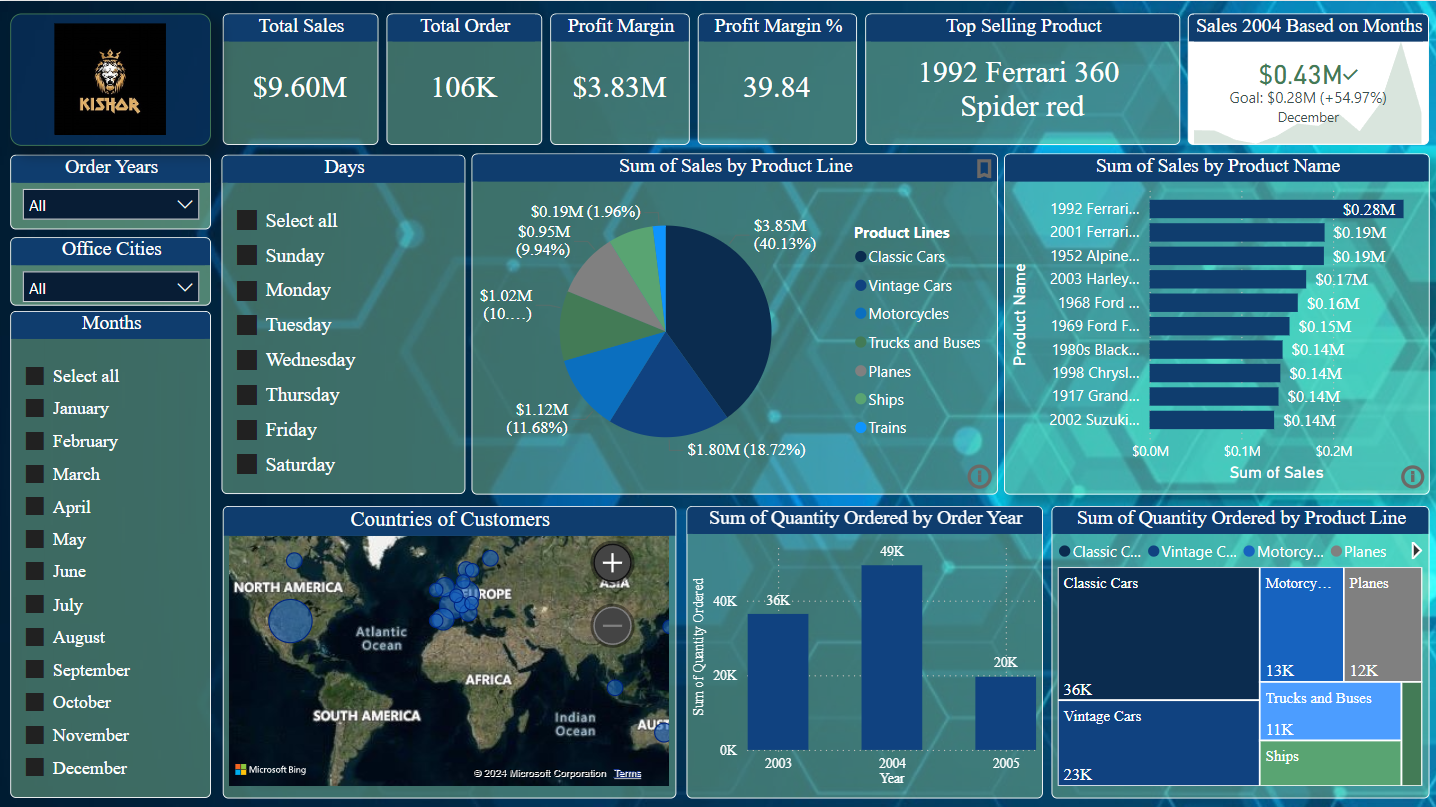

The page's visual inventory and layout, read from the dashboard file:
{"tool":"powerbi","page":{"name":"Page 1","canvas":[1280,720],"ordinal":0},"visuals":[{"type":"card","title":"Profit Margin","fields":{"Values":["order details.total_profit"]},"box":[490,11.4,124,117.1],"z":0},{"type":"card","title":"Top Selling Product","fields":{"Values":["order details.Most_Ordered_Product"]},"box":[770,11.4,280,117.1],"z":1000},{"type":"clusteredBarChart","fields":{"Y":["Sum(order details.Sales)"],"Category":["products.productName"]},"box":[892.9,135.7,378.6,302.9],"z":2000},{"type":"pieChart","fields":{"Category":["products.productLine"],"Y":["Sum(order details.Sales)"]},"box":[420,135.7,468,302.9],"z":3000},{"type":"slicer","title":"Order Years","fields":{"Values":["orders.order_year"]},"box":[10,137.1,178.6,66],"z":4000},{"type":"slicer","title":"Months","fields":{"Values":["orders.Month Name"]},"box":[10,275.7,178.6,432.9],"z":5000},{"type":"card","title":"Total Order","fields":{"Values":["Sum(order details.quantityOrdered)"]},"box":[344.3,11.4,138,117],"z":6000},{"type":"slicer","title":"Days","fields":{"Values":["orders.Day Name"]},"box":[198,137.1,217,301.4],"z":7000},{"type":"card","title":"Total Sales","fields":{"Values":["order details.total_sales"]},"box":[198.6,11.4,138,117.1],"z":8000},{"type":"kpi","title":"Sales 2004 Based on Months","fields":{"TrendLine":["orders.Month Name"],"Goal":["orders.sales_2003"],"Indicator":["orders.sales_2004"]},"box":[1057.1,11.4,214.3,117.1],"z":9000},{"type":"image","box":[10,11.2,178.8,117.5],"z":10000},{"type":"map","title":"Countries of Customers","fields":{"Category":["customers.country"],"Size":["CountNonNull(customers.customerNumber)"]},"box":[198.6,448.6,402.9,260],"z":11000},{"type":"treemap","fields":{"Group":["productlines.productLine"],"Values":["Sum(order details.quantityOrdered)"]},"box":[935.7,448.6,335.7,260],"z":12000},{"type":"columnChart","title":"Sum of Quantity Ordered by Order Year","fields":{"Y":["Sum(order details.quantityOrdered)"],"Category":["orders.order_year"]},"box":[611.4,448.6,317.1,260],"z":13000},{"type":"card","title":"Profit Margin %","fields":{"Values":["order details.profit_margin_%"]},"box":[621.4,11.4,141.4,117.1],"z":14000},{"type":"slicer","title":"Office Cities","fields":{"Values":["offices.city"]},"box":[10,210,178.6,61],"z":15000},{"type":"actionButton","box":[856.7,407.8,31.1,30],"z":16000},{"type":"actionButton","box":[863,137,25,25],"z":17000},{"type":"actionButton","box":[1242.2,407.8,28.9,30],"z":18000}]}

Visuals, with their boxes in screenshot pixels (x1, y1, x2, y2), scaled from the page's 1280x720 canvas onto the 1436x807 screenshot:
"Profit Margin" card: [550,13,689,144]
"Top Selling Product" card: [864,13,1178,144]
clusteredBarChart - Sum(order details.Sales) x products.productName: [1002,152,1426,492]
pieChart - products.productLine x Sum(order details.Sales): [471,152,996,492]
"Order Years" slicer: [11,154,212,228]
"Months" slicer: [11,309,212,794]
"Total Order" card: [386,13,541,144]
"Days" slicer: [222,154,466,491]
"Total Sales" card: [223,13,378,144]
"Sales 2004 Based on Months" kpi: [1186,13,1426,144]
image: [11,13,212,144]
"Countries of Customers" map: [223,503,675,794]
treemap - productlines.productLine x Sum(order details.quantityOrdered): [1050,503,1426,794]
"Sum of Quantity Ordered by Order Year" columnChart: [686,503,1042,794]
"Profit Margin %" card: [697,13,856,144]
"Office Cities" slicer: [11,235,212,304]
actionButton: [961,457,996,491]
actionButton: [968,154,996,182]
actionButton: [1394,457,1426,491]
